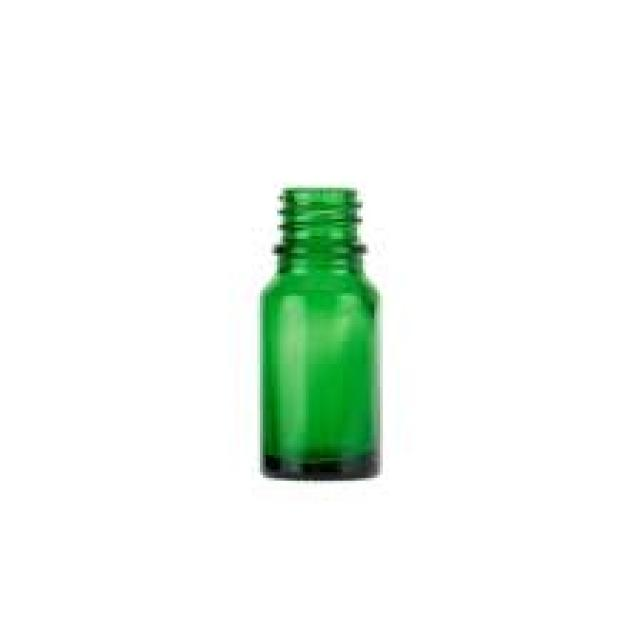glass: (254, 185, 377, 478)
